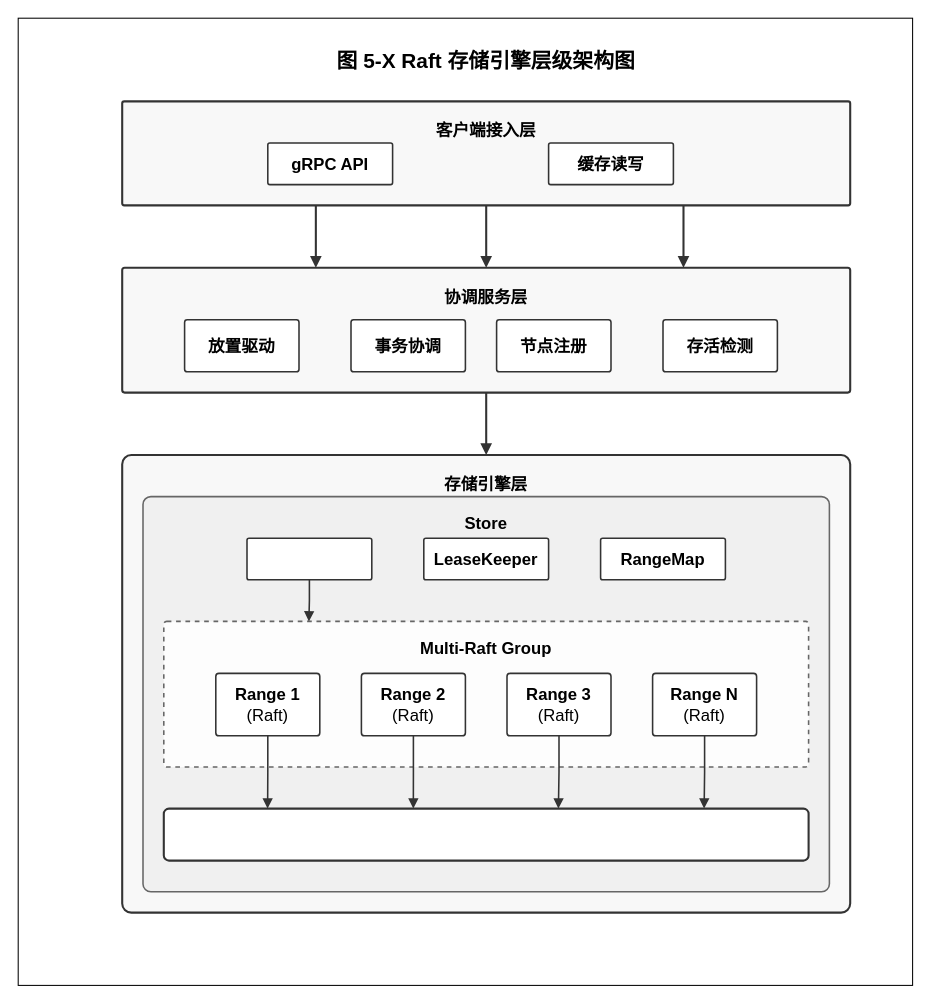
Some shapes in this 931 by 1004 pixel diagram are drawn without their labels. Here are the shapes that lost their labels. From the top down, the centre of each, then its label:
At pixel 309 558: "NodeHost".
At pixel 485 834: "Pebble KV".
